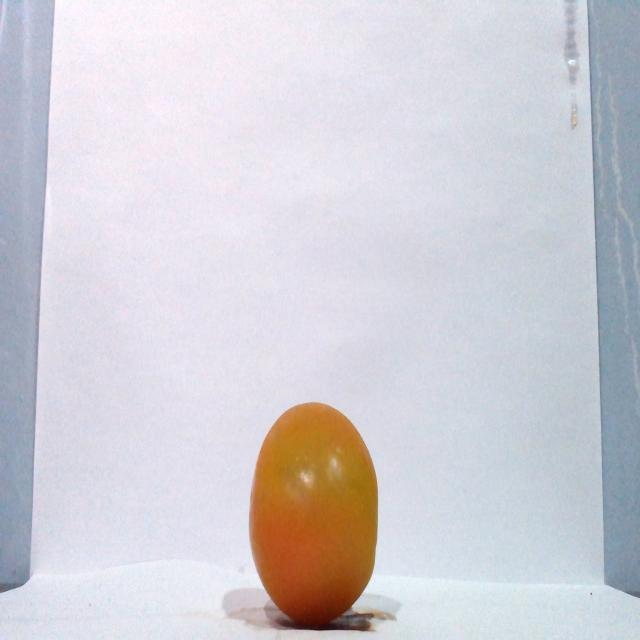Red: (247, 400, 379, 626)
